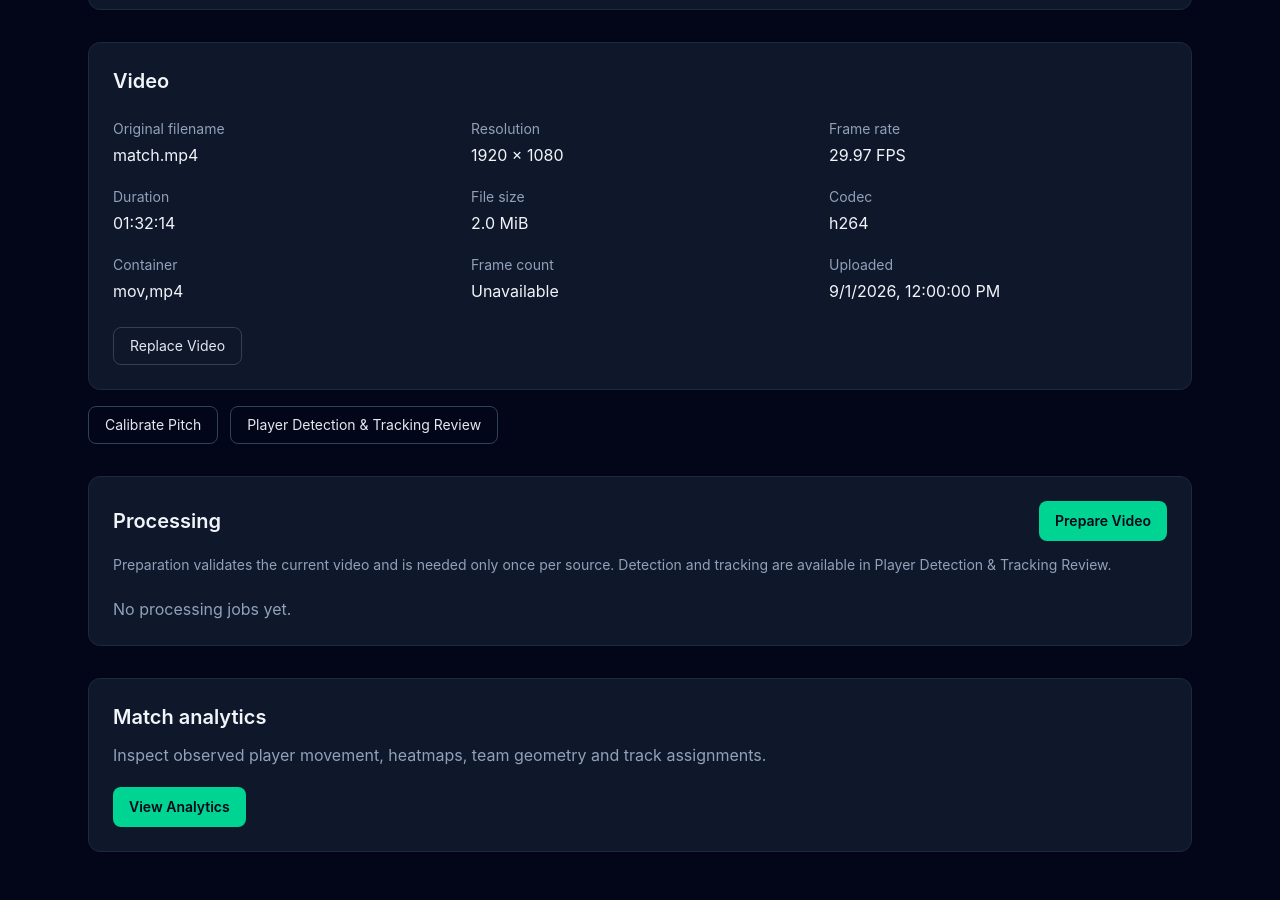
Test: processing jobs › starts preparation and blocks duplicate preparation and replacement while queued
(page scrolled)
expect the text "No processing jobs yet." is shown: met, box [113,599,291,619]
Click the button "Prepare Video": (1103, 521) [1039,501,1167,541]
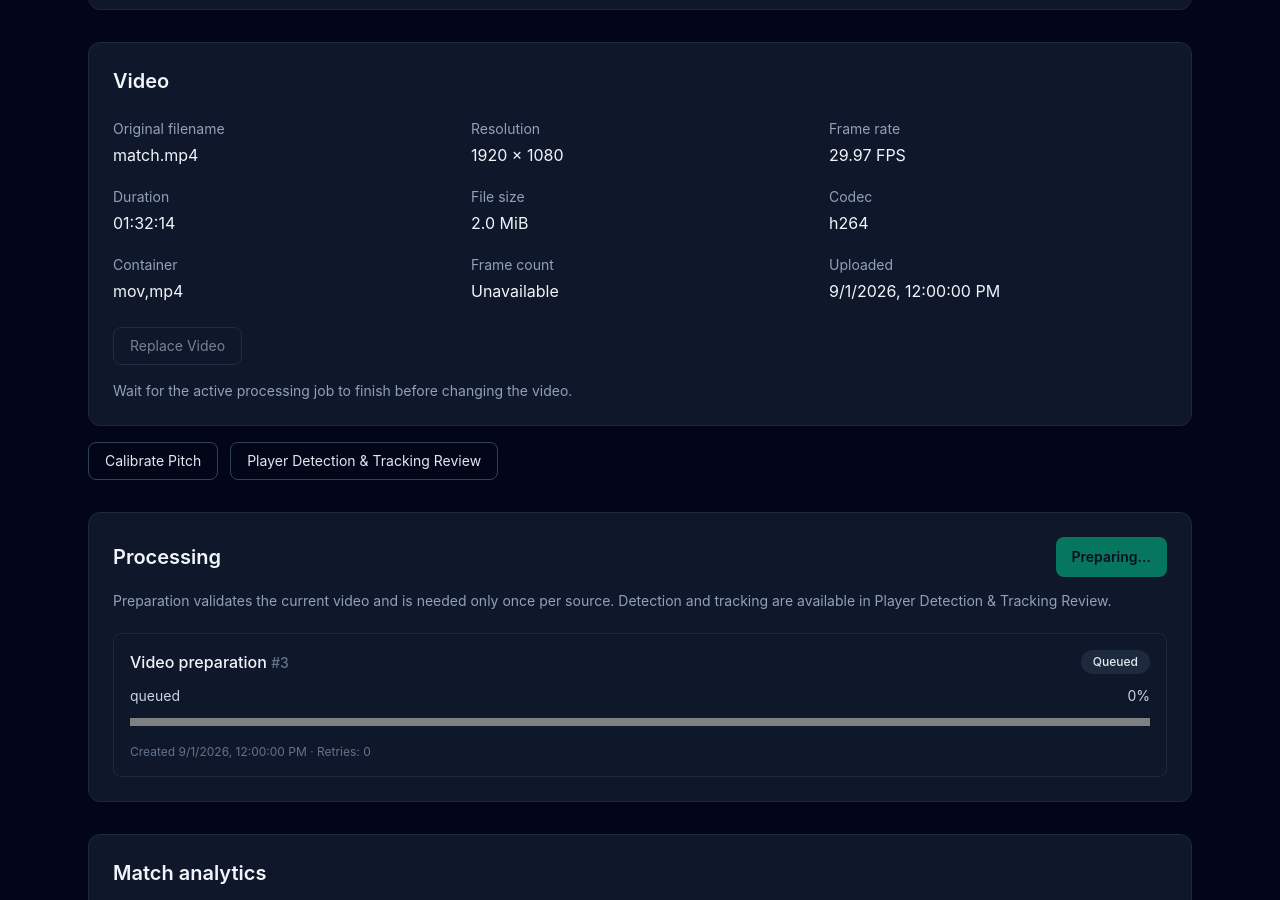
expect the text "Queued" is shown: met, box [1081,650,1150,674]
expect the button "Preparing…" is disabled: met, box [1056,537,1167,577]
expect the button "Replace Video" is disabled: met, box [113,327,242,365]
